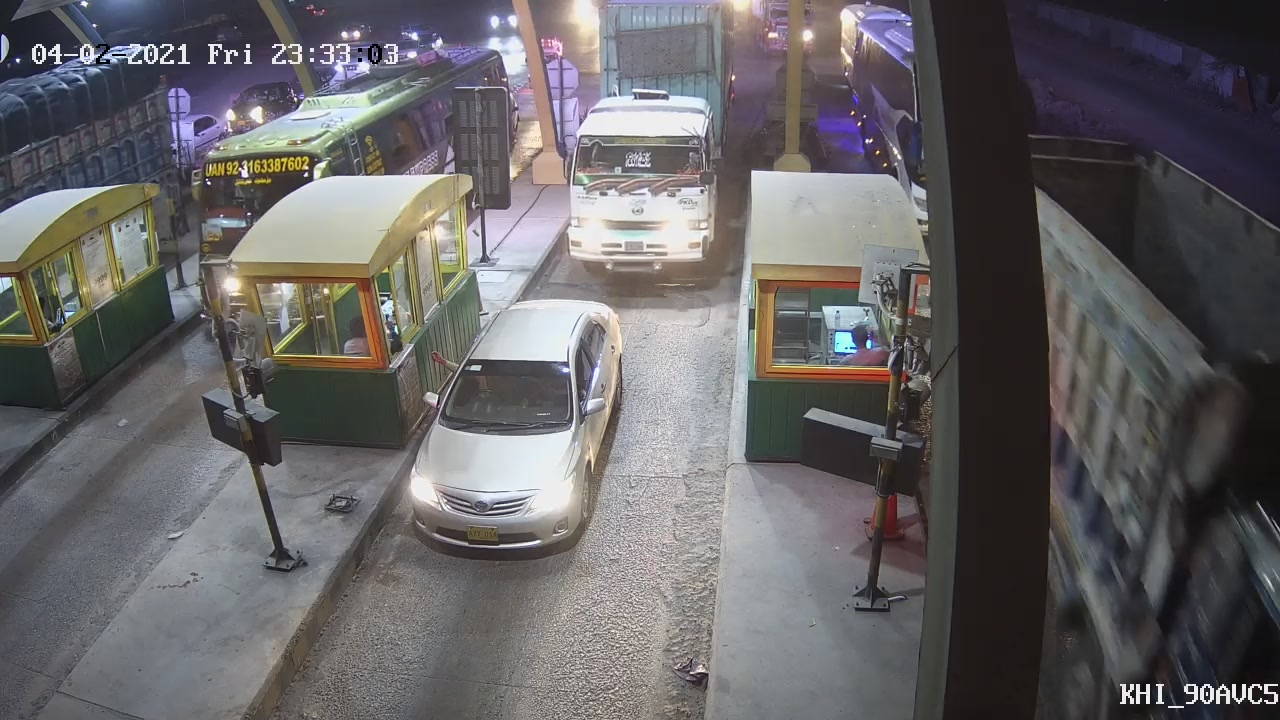F1: (404, 291, 624, 558)
F6: (560, 4, 746, 278)
